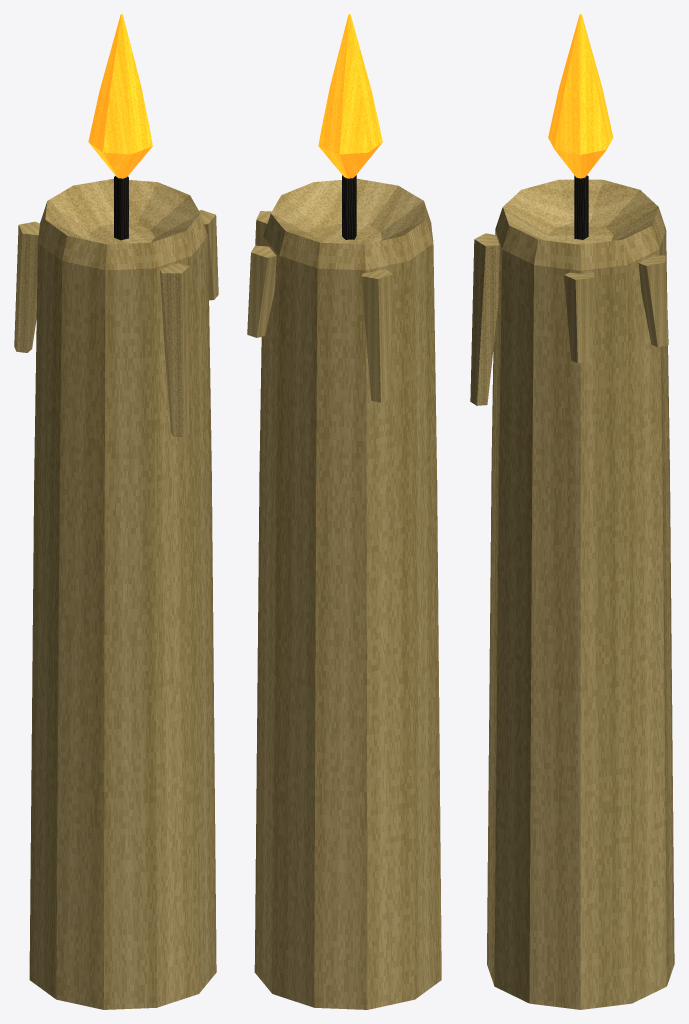
The model's file is blender_firelight_1_lit.glb.
3 renders of one model, left to right at view 1: azimuth 30°, elevation 25°; view 2: azimuth 150°, elevation 25°; view 3: azimuth 270°, elevation 25°, orthographic.
Visible parts, largest first — view 1: blender_firelight_1_lit; view 2: blender_firelight_1_lit; view 3: blender_firelight_1_lit.
Boxes of the visible parts, box(x1,y1,x2,y2) form: blender_firelight_1_lit: box(14, 14, 218, 1009); blender_firelight_1_lit: box(247, 14, 441, 1009); blender_firelight_1_lit: box(470, 14, 674, 1009).
Bounding box in the file's own units: 0.0361 × 0.189 × 0.0366.
3 materials, 3 textured.
